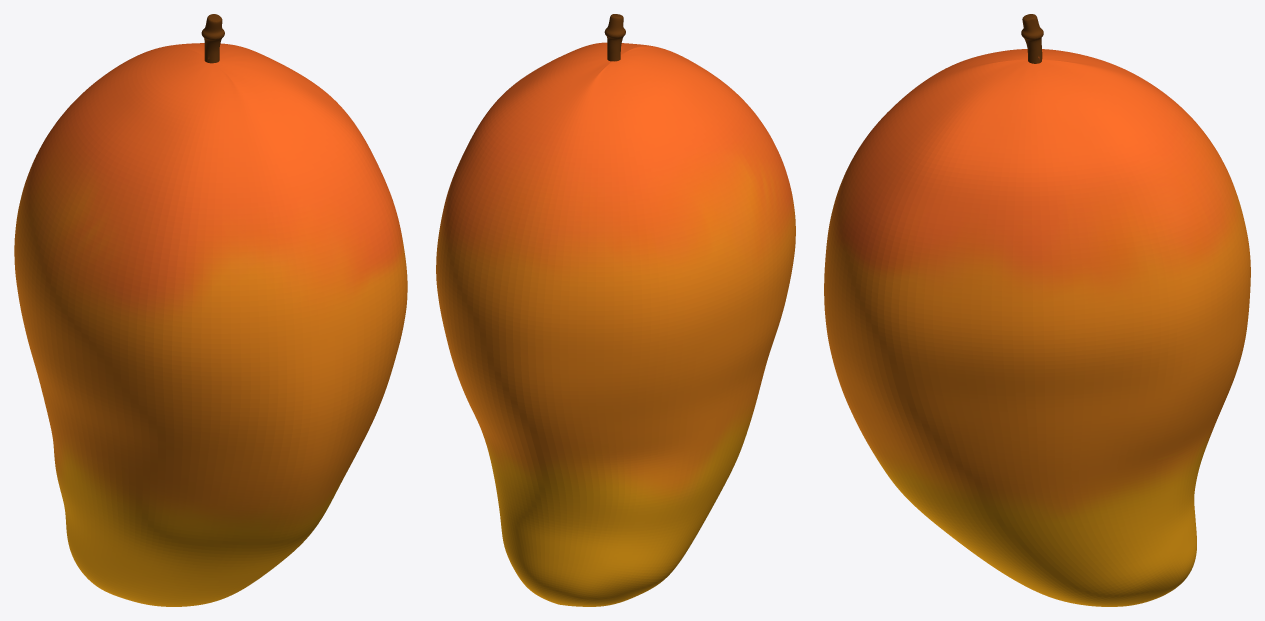
File: Mango.fbx
3 renders of one model, left to right at view 1: azimuth 30°, elevation 25°; view 2: azimuth 150°, elevation 25°; view 3: azimuth 270°, elevation 25°, orthographic. The views are drawn at different scales.
Parts seen in each view (by area): view 1: Mango; view 2: Mango; view 3: Mango.
Part boxes in pixels (<box>): Mango: <box>14,14,407,606</box>; Mango: <box>436,14,795,606</box>; Mango: <box>824,14,1250,606</box>.
Bounding box in the file's own units: 193 × 350 × 231.
